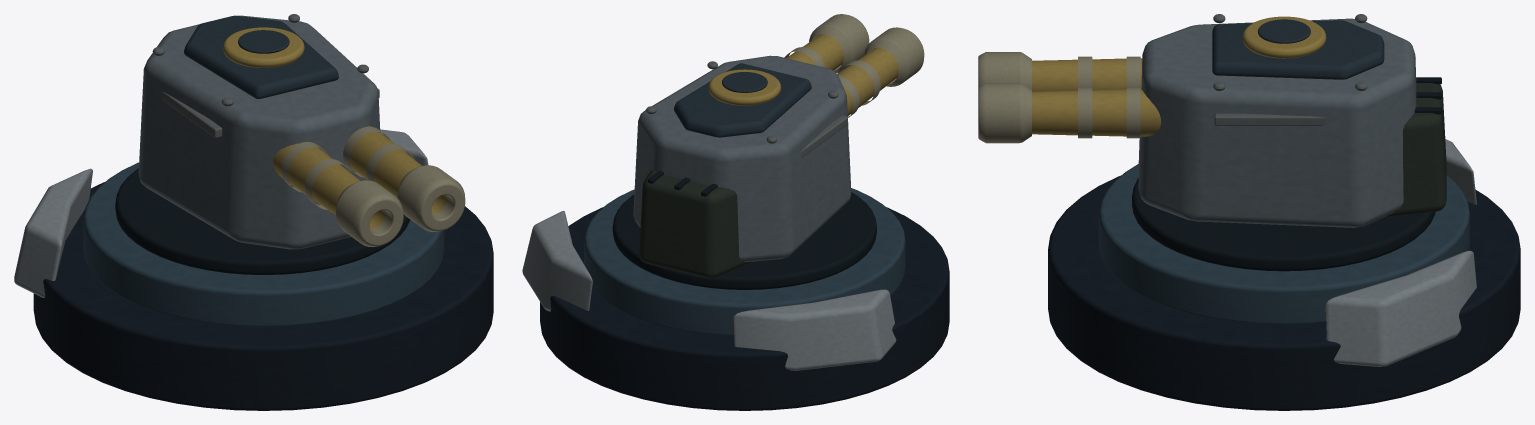
The model's file is arrow.glb.
3 renders of one model, left to right at view 1: azimuth 30°, elevation 25°; view 2: azimuth 150°, elevation 25°; view 3: azimuth 270°, elevation 25°, orthographic. The views are drawn at different scales.
Visible parts, largest first — view 1: 낮은_고정_받침, 리시버_상판_홈, 가공된_포구; view 2: 낮은_고정_받침, 리시버_상판_홈, 가공된_포구; view 3: 낮은_고정_받침, 리시버_상판_홈, 가공된_포구.
Boxes of the visible parts, x1,y1,x2,y2 form: 낮은_고정_받침: (14,129,493,410); 리시버_상판_홈: (138,14,380,249); 가공된_포구: (273,126,465,246); 낮은_고정_받침: (522,188,949,410); 리시버_상판_홈: (633,55,851,278); 가공된_포구: (784,14,924,117); 낮은_고정_받침: (1048,139,1520,410); 리시버_상판_홈: (1138,14,1446,227); 가공된_포구: (978,52,1161,143).
Size of the model in its own units: 0.808 by 0.5275 by 0.918.
Materials: 10 (10 with a texture image).
